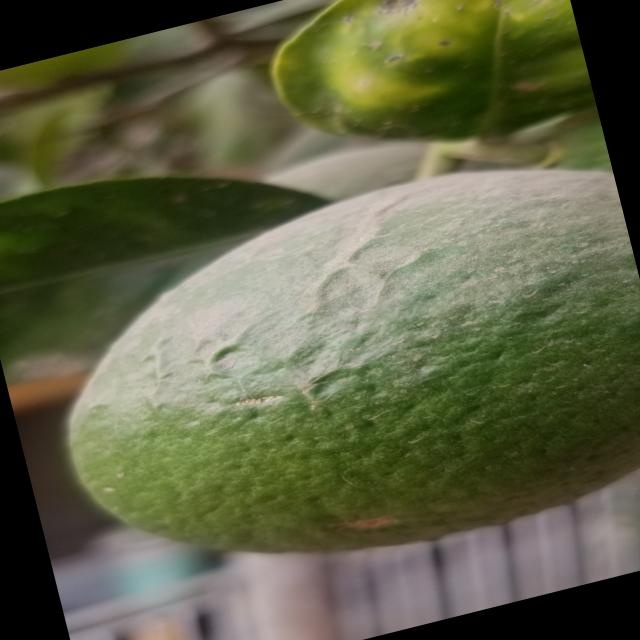agrume: (15, 124, 640, 640)
